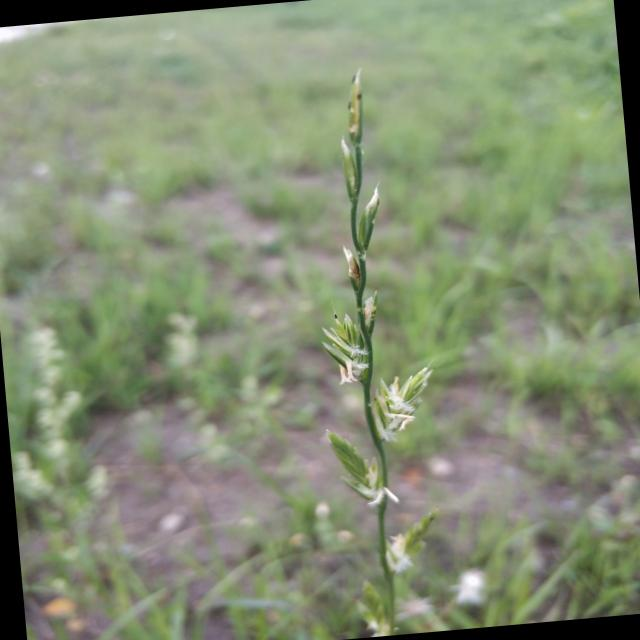Lolium: (290, 62, 461, 638)
